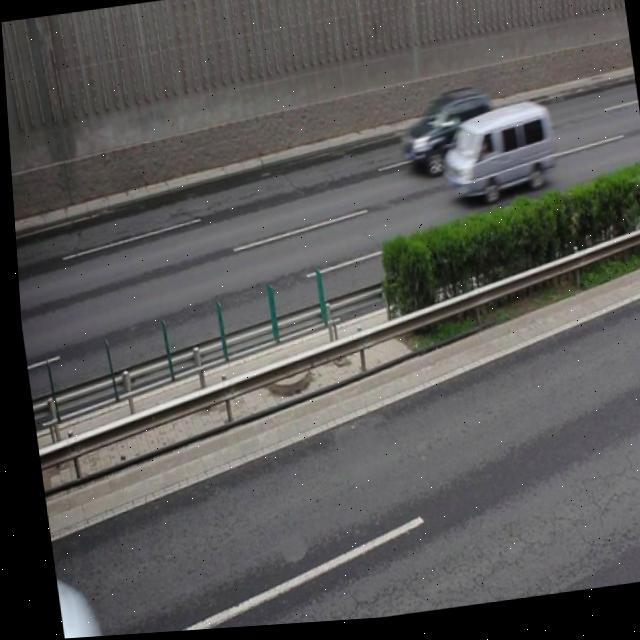car: (391, 91, 496, 184)
truck: (432, 105, 556, 211)
